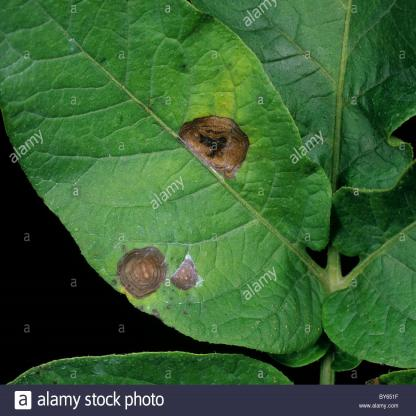potato leaf early blight: (0, 1, 330, 357)
